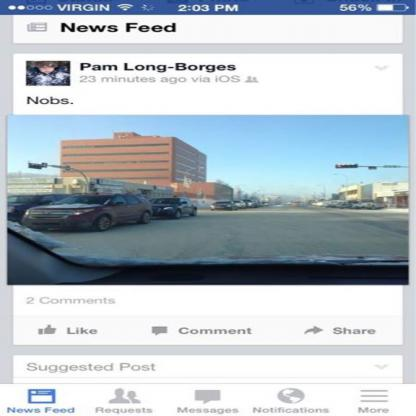Car: (20, 192, 153, 230), (149, 196, 197, 219), (210, 199, 269, 211)
